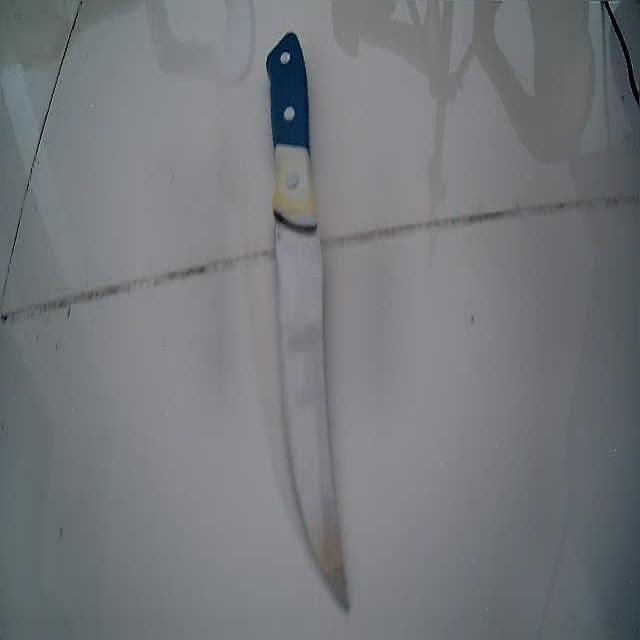knife: (264, 32, 351, 613)
